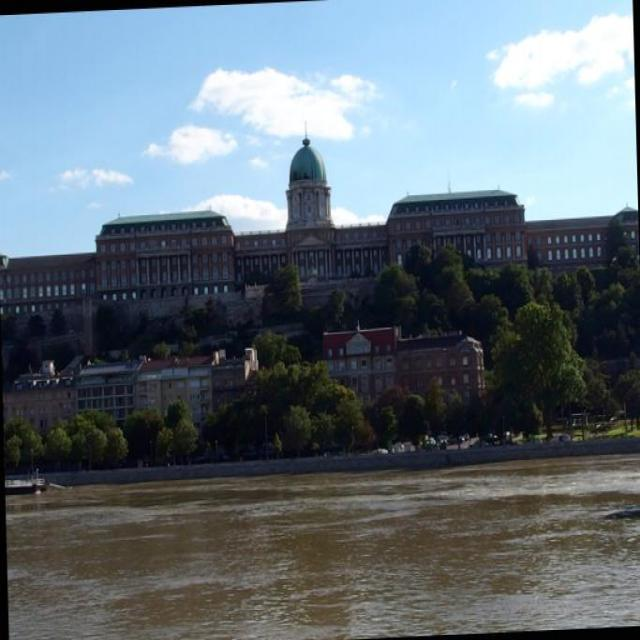flood: (4, 455, 639, 639)
